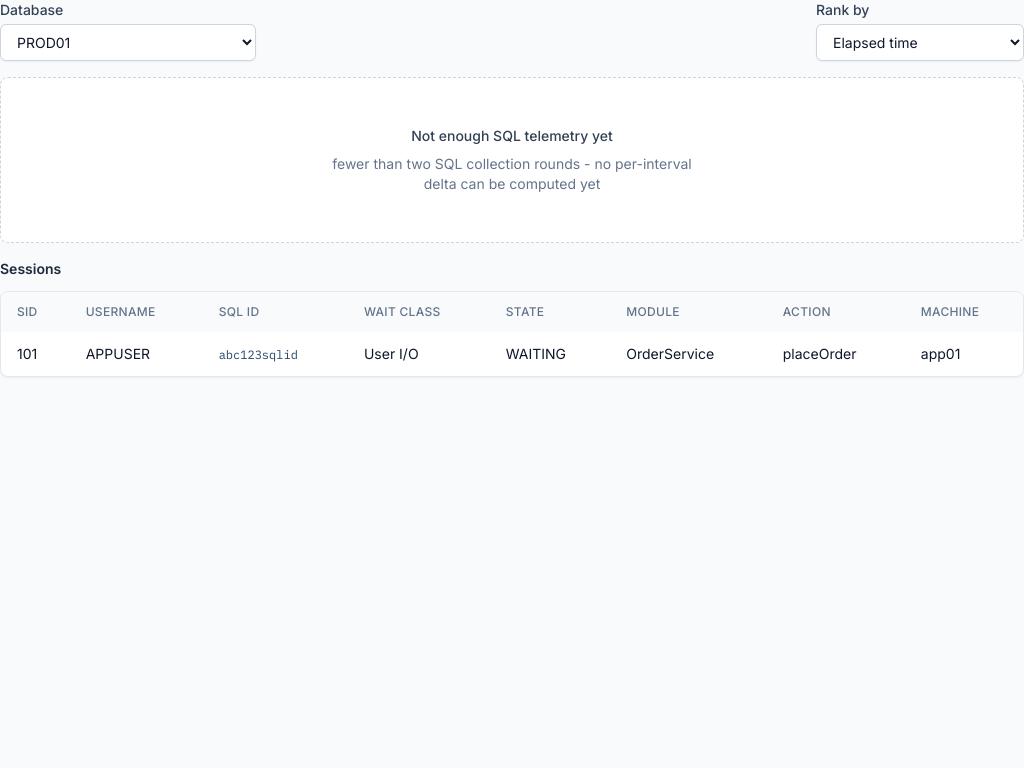
Test: SqlIntelligencePage › opens the SQL detail drawer when a session's SQL ID is clicked
Click the button "abc123sqlid".
click(258, 355)  # box [219,347,298,363]
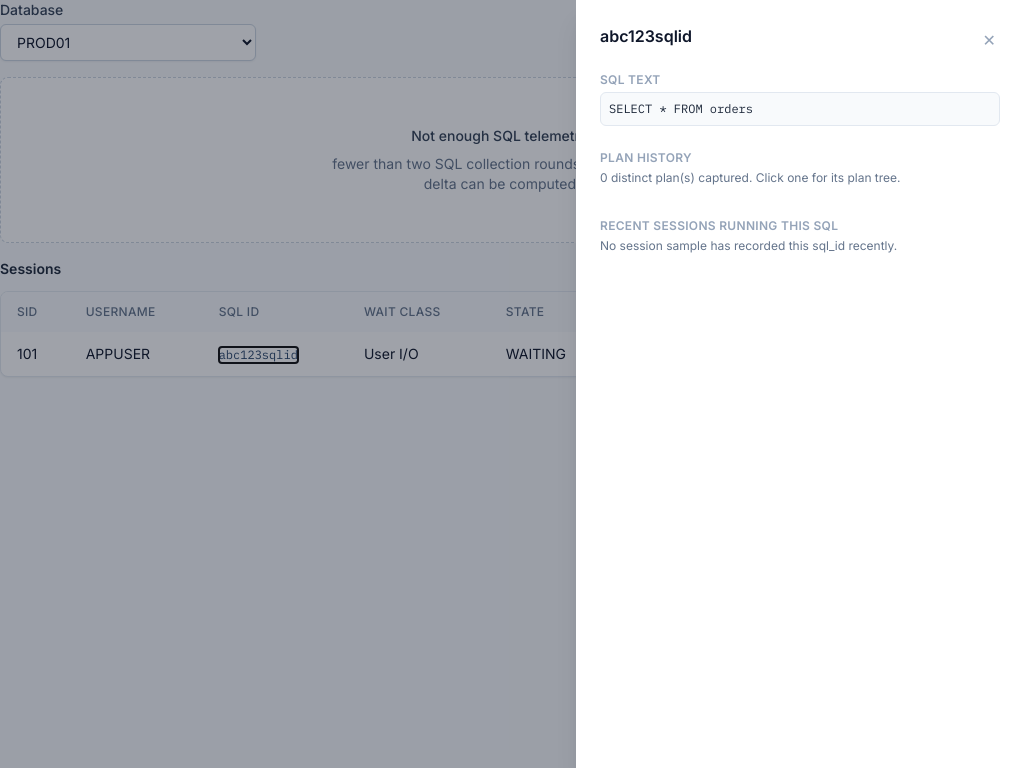
Expected: the text "SELECT * FROM orders" is shown, [600,92,1000,126]
